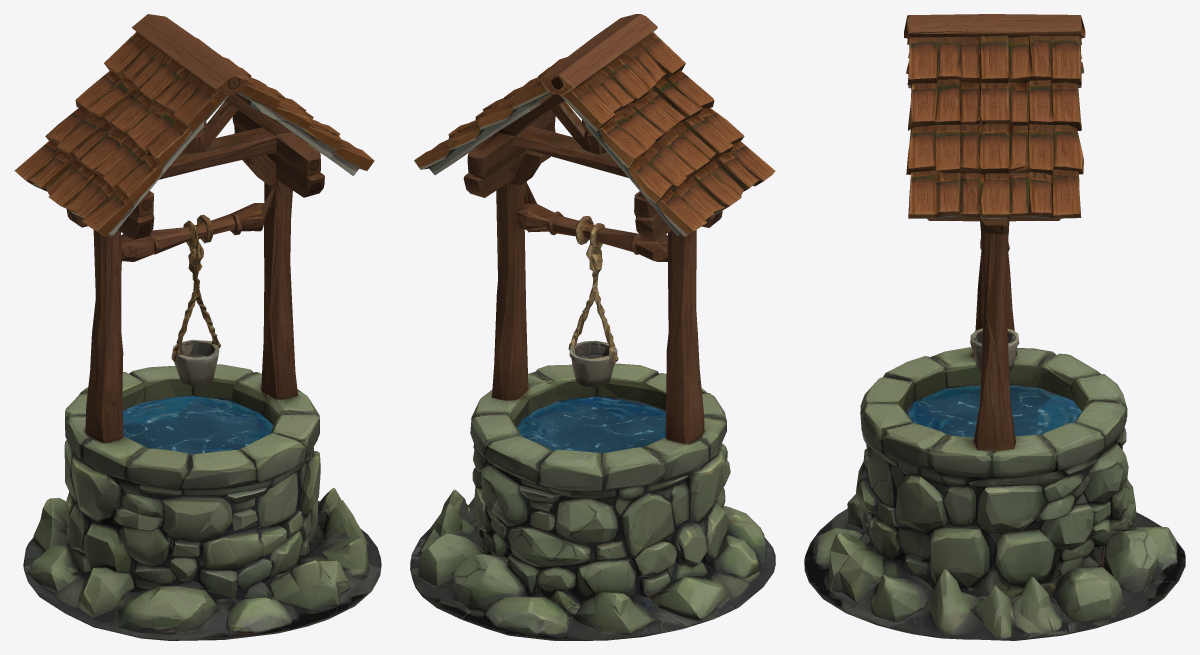
File: prop_well.glb
3 views of the same model, side by side, from view 1: azimuth 30°, elevation 25°; view 2: azimuth 150°, elevation 25°; view 3: azimuth 270°, elevation 25° (orthographic). The views are drawn at different scales.
Bounding box in the file's own units: 1.18 × 1.9 × 1.21.
Materials: 1 (1 with a texture image).
